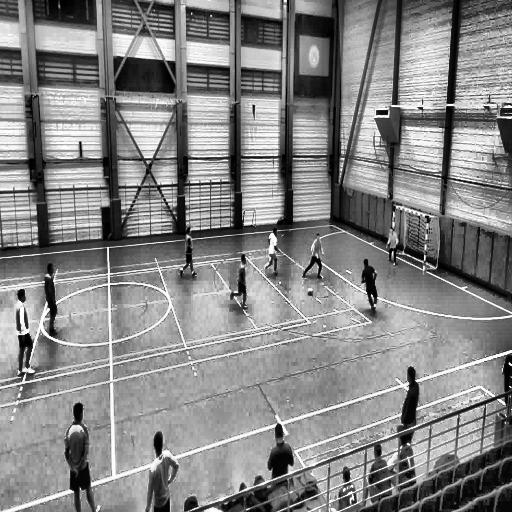ball: (308, 288, 313, 295)
player: (66, 402, 102, 512), (145, 430, 177, 512), (14, 288, 34, 377), (401, 370, 419, 444), (300, 231, 325, 280), (46, 262, 58, 336), (264, 227, 282, 276), (179, 227, 196, 278), (361, 258, 378, 309), (238, 254, 248, 311), (387, 226, 398, 267)
